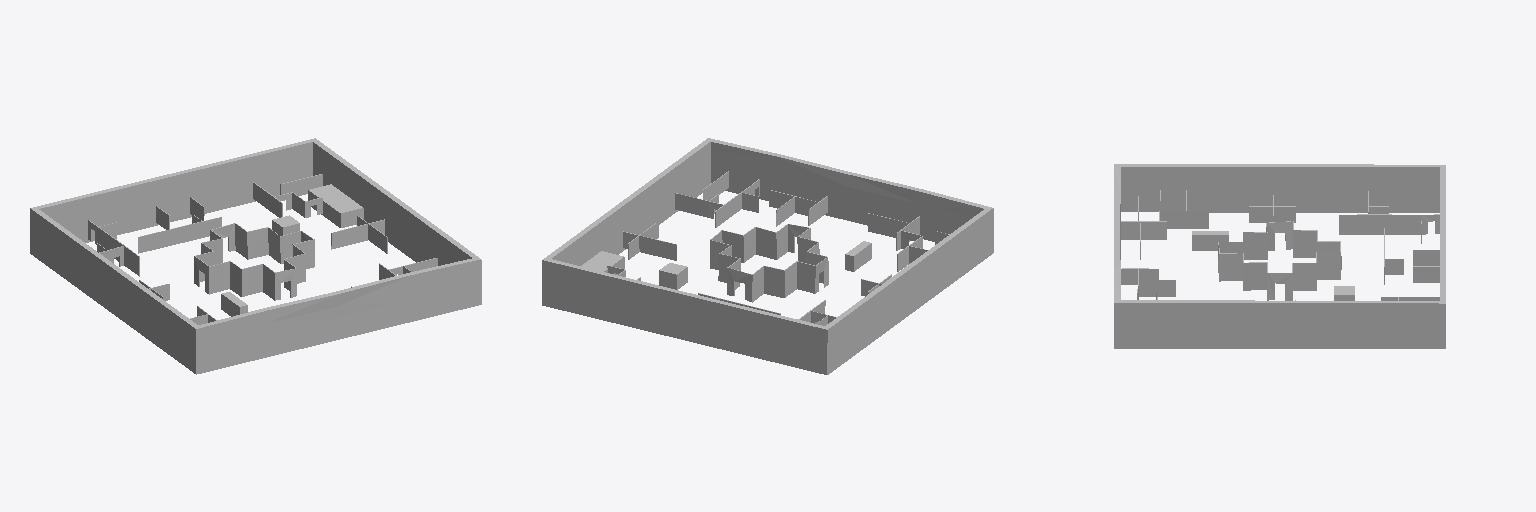
File: walls_joined.obj
3 views of the same model, side by side, from view 1: azimuth 30°, elevation 25°; view 2: azimuth 150°, elevation 25°; view 3: azimuth 270°, elevation 25° (orthographic).
Visible parts, largest first — view 1: Cube.003_Cube.000; view 2: Cube.003_Cube.000; view 3: Cube.003_Cube.000.
Boxes of the visible parts, <box> form: Cube.003_Cube.000: <box>30,138,481,374</box>; Cube.003_Cube.000: <box>542,138,993,374</box>; Cube.003_Cube.000: <box>1114,164,1445,348</box>.
Size of the model in its own units: 409 by 65.28 by 413.